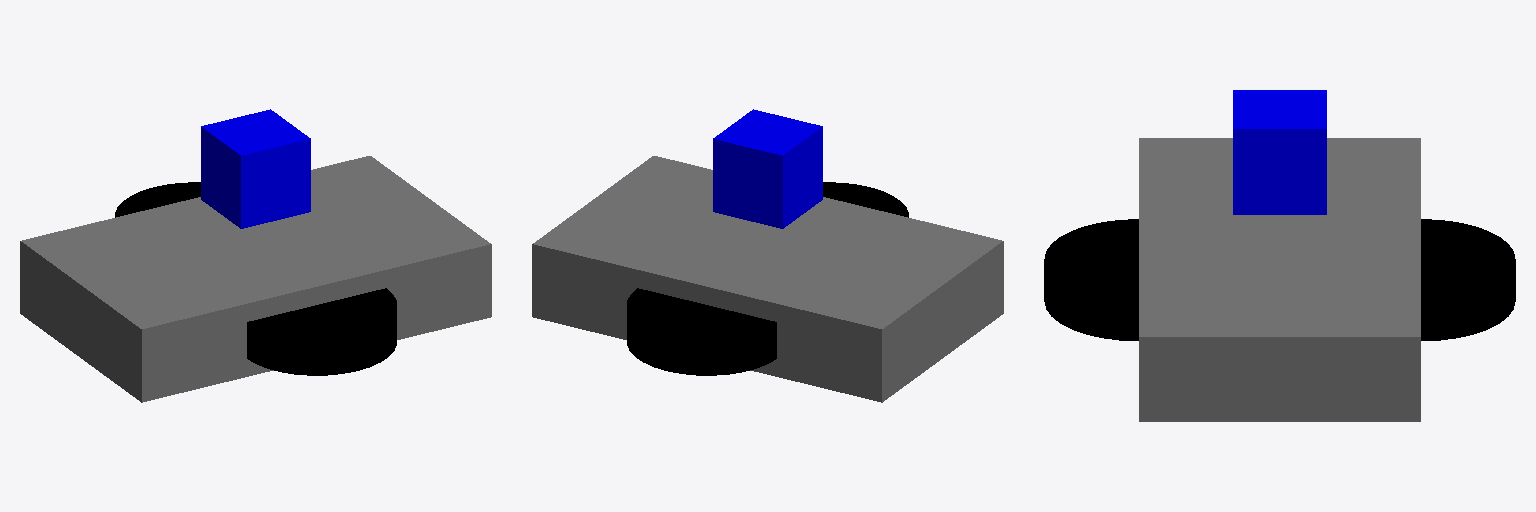
robot.urdf — line_follower_robot:
<?xml version="1.0"?>
<robot name="line_follower_robot">
  <!-- Base link -->
  <link name="base_link">
    <visual>
      <geometry>
        <box size="0.5 0.3 0.1"/>
      </geometry>
      <material name="gray">
        <color rgba="0.5 0.5 0.5 1"/>
      </material>
    </visual>
    <collision>
      <geometry>
        <box size="0.5 0.3 0.1"/>
      </geometry>
    </collision>
    <inertial>
      <mass value="1.0"/>
      <origin xyz="0 0 0"/>
      <inertia ixx="0.01" iyy="0.01" izz="0.01" ixy="0" ixz="0" iyz="0"/>
    </inertial>
  </link>

  <!-- Left Wheel -->
  <joint name="left_wheel_joint" type="continuous">
    <parent link="base_link"/>
    <child link="left_wheel"/>
    <origin xyz="0 0.15 0" rpy="0 0 0"/>
    <axis xyz="0 1 0"/>
  </joint>
  <link name="left_wheel">
    <visual>
      <geometry>
        <cylinder length="0.05" radius="0.1"/>
      </geometry>
      <material name="black">
        <color rgba="0 0 0 1"/>
      </material>
    </visual>
    <collision>
      <geometry>
        <cylinder length="0.05" radius="0.1"/>
      </geometry>
    </collision>
    <inertial>
      <mass value="0.2"/>
      <origin xyz="0 0 0"/>
      <inertia ixx="0.001" iyy="0.001" izz="0.001"/>
    </inertial>
  </link>

  <!-- Right Wheel -->
  <joint name="right_wheel_joint" type="continuous">
    <parent link="base_link"/>
    <child link="right_wheel"/>
    <origin xyz="0 -0.15 0" rpy="0 0 0"/>
    <axis xyz="0 1 0"/>
  </joint>
  <link name="right_wheel">
    <visual>
      <geometry>
        <cylinder length="0.05" radius="0.1"/>
      </geometry>
      <material name="black">
        <color rgba="0 0 0 1"/>
      </material>
    </visual>
    <collision>
      <geometry>
        <cylinder length="0.05" radius="0.1"/>
      </geometry>
    </collision>
    <inertial>
      <mass value="0.2"/>
      <origin xyz="0 0 0"/>
      <inertia ixx="0.001" iyy="0.001" izz="0.001"/>
    </inertial>
  </link>

  <!-- Camera Sensor -->
  <joint name="camera_joint" type="fixed">
    <parent link="base_link"/>
    <child link="camera_link"/>
    <origin xyz="0 0 0.15" rpy="0 0 0"/>
  </joint>
  <link name="camera_link">
    <visual>
      <geometry>
        <box size="0.1 0.1 0.1"/>
      </geometry>
      <material name="blue">
        <color rgba="0 0 1 1"/>
      </material>
    </visual>
    <collision>
      <geometry>
        <box size="0.1 0.1 0.1"/>
      </geometry>
    </collision>
    <inertial>
      <mass value="0.05"/>
      <origin xyz="0 0 0"/>
      <inertia ixx="0.0001" iyy="0.0001" izz="0.0001"/>
    </inertial>
  </link>

  <!-- Gazebo Plugin for Differential Drive -->
  <gazebo>
    <plugin name="diff_drive_controller" filename="libgazebo_ros_diff_drive.so">
      <left_wheel>left_wheel_joint</left_wheel>
      <right_wheel>right_wheel_joint</right_wheel>
      <wheel_separation>0.3</wheel_separation>
      <wheel_radius>0.1</wheel_radius>
      <torque>5</torque>
      <command_topic>/cmd_vel</command_topic>
      <odom_topic>/odom</odom_topic>
      <odom_frame>odom</odom_frame>
      <robot_base_frame>base_link</robot_base_frame>
    </plugin>
  </gazebo>

  <!-- Gazebo Plugin for Camera Sensor -->
  <gazebo reference="camera_link">
    <sensor type="camera" name="camera_sensor">
      <update_rate>30</update_rate>
      <camera>
        <horizontal_fov>1.047</horizontal_fov>
        <image>
          <width>320</width>
          <height>240</height>
          <format>R8G8B8</format>
        </image>
        <clip>
          <near>0.1</near>
          <far>100</far>
        </clip>
      </camera>
      <plugin name="gazebo_ros_camera" filename="libgazebo_ros_camera.so">
        <always_on>true</always_on>
        <update_rate>30</update_rate>
        <camera_name>camera</camera_name>
        <image_topic_name>camera/image_raw</image_topic_name>
        <camera_info_topic_name>camera/camera_info</camera_info_topic_name>
        <frame_name>camera_link</frame_name>
      </plugin>
    </sensor>
  </gazebo>
</robot>

--- Facts derived from the render (not from the file) ---
3 views of the same robot in one strip: view 1: azimuth 30°, elevation 25°; view 2: azimuth 150°, elevation 25°; view 3: azimuth 270°, elevation 25° (orthographic).
Robot: line_follower_robot — 4 links, 3 joints (2 continuous, 1 fixed); root link base_link; default pose: every joint at zero.
Visible links, largest first — view 1: base_link, camera_link, right_wheel, left_wheel; view 2: base_link, camera_link, left_wheel, right_wheel; view 3: base_link, camera_link, left_wheel, right_wheel.
Boxes of the visible links, x1,y1,x2,y2 form: base_link: (20, 156, 491, 402); camera_link: (201, 109, 310, 228); right_wheel: (247, 288, 396, 375); left_wheel: (115, 182, 200, 217); base_link: (532, 156, 1003, 402); camera_link: (713, 109, 822, 228); left_wheel: (627, 288, 776, 375); right_wheel: (823, 182, 908, 217); base_link: (1139, 138, 1420, 421); camera_link: (1233, 90, 1326, 214); left_wheel: (1421, 219, 1515, 340); right_wheel: (1044, 219, 1138, 340).
Size in the robot's own frame: 0.5 by 0.5 by 0.25 metres.
Geometry: primitives only (box / cylinder / sphere), no mesh files.